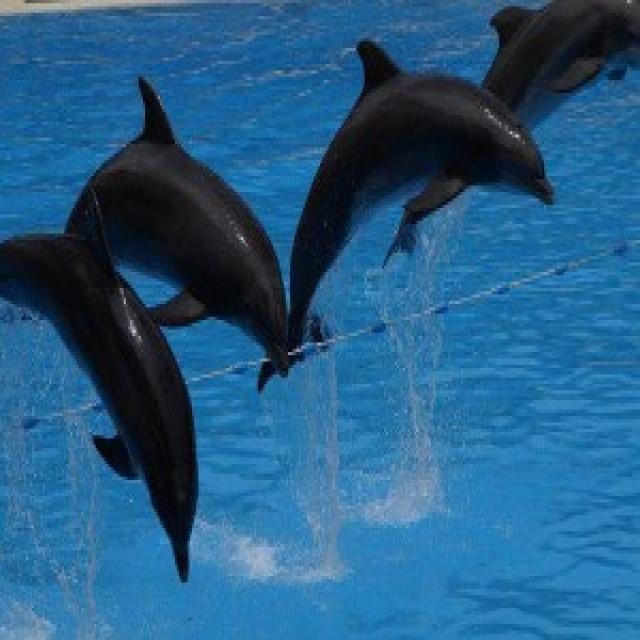Dolphin: (296, 30, 557, 372), (0, 233, 203, 587), (90, 51, 294, 374), (479, 0, 640, 100)
